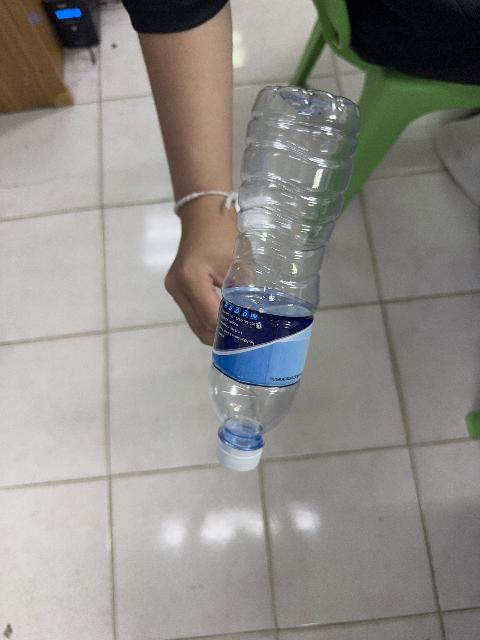bottle: (209, 87, 359, 470)
